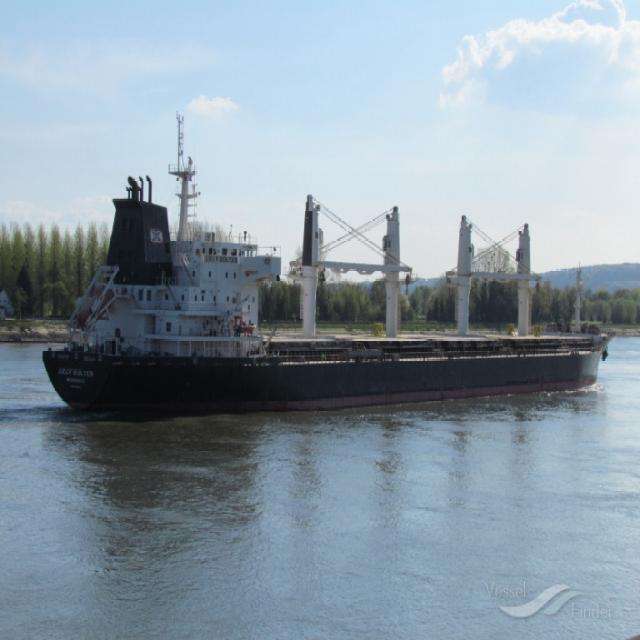OCR: (58, 361, 96, 391)
